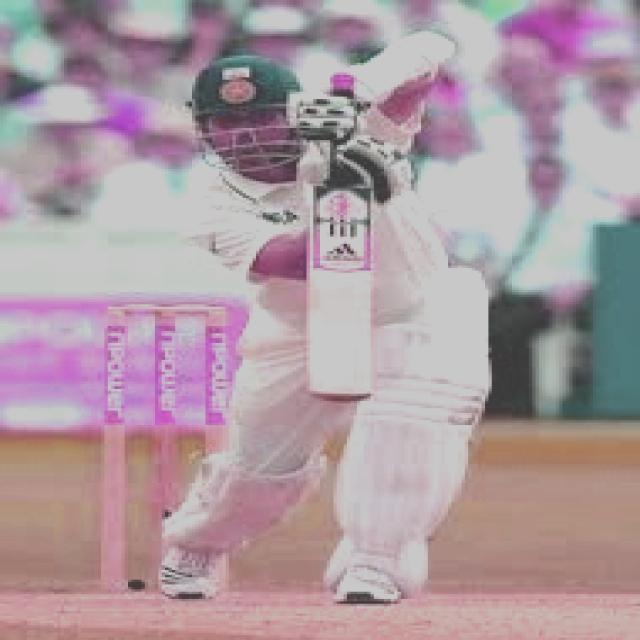bat: (305, 185, 378, 404)
toe: (306, 389, 375, 407)
